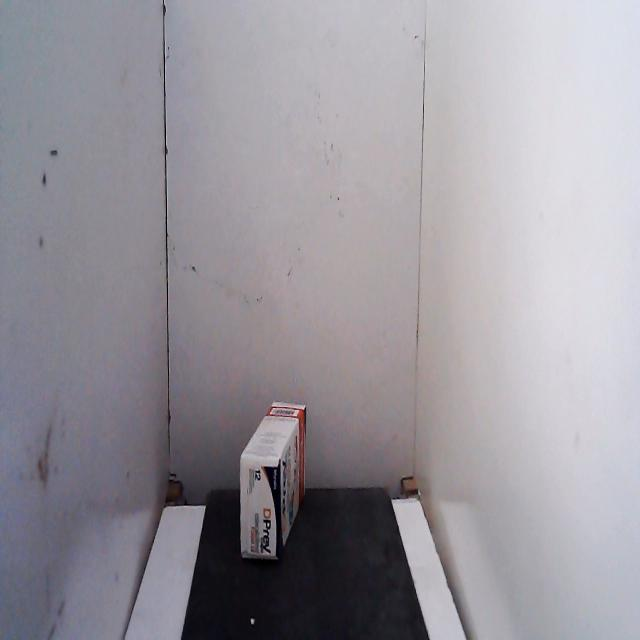paper: (233, 382, 310, 574)
